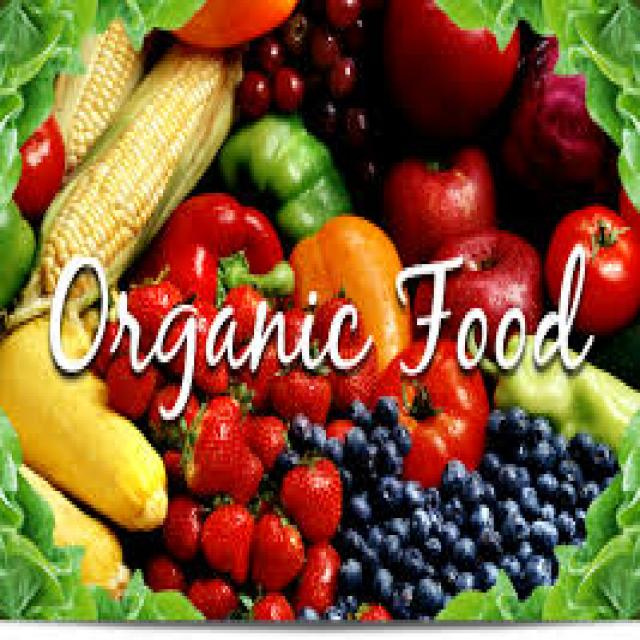organic waste: (2, 40, 235, 328), (0, 0, 206, 312), (432, 406, 638, 620), (0, 402, 201, 616), (432, 0, 638, 207), (0, 311, 165, 528), (496, 34, 618, 223), (139, 190, 290, 338), (362, 0, 515, 146), (465, 318, 638, 447), (288, 210, 410, 376), (214, 105, 352, 251), (374, 335, 484, 488), (14, 457, 125, 593), (379, 142, 496, 271), (415, 220, 537, 339), (48, 10, 139, 166), (542, 196, 638, 332), (180, 393, 254, 498), (12, 105, 65, 220), (280, 444, 340, 542), (166, 294, 226, 392), (124, 278, 180, 366), (250, 504, 304, 586), (199, 498, 247, 582), (268, 362, 331, 423), (326, 335, 374, 410), (106, 349, 160, 410), (235, 339, 278, 413), (295, 532, 335, 610), (91, 311, 137, 376), (314, 291, 357, 359), (158, 494, 202, 559), (223, 284, 268, 342), (148, 383, 192, 440), (278, 298, 314, 366), (245, 413, 288, 467), (187, 572, 235, 616), (139, 552, 185, 593), (226, 447, 262, 498), (247, 579, 292, 616), (163, 444, 189, 491), (412, 569, 441, 609), (432, 515, 461, 552), (497, 457, 528, 491), (438, 450, 468, 484), (285, 410, 312, 447), (491, 491, 518, 528), (374, 440, 403, 474), (347, 488, 374, 524), (450, 532, 474, 572), (527, 433, 554, 468), (549, 504, 575, 538), (475, 558, 501, 592), (350, 599, 386, 623), (338, 556, 362, 592), (474, 522, 498, 558), (525, 409, 549, 444), (554, 453, 578, 488), (465, 498, 489, 532), (522, 552, 549, 582), (374, 474, 400, 505), (451, 535, 477, 566), (398, 542, 419, 579), (554, 474, 575, 511), (369, 562, 391, 596), (571, 430, 592, 464), (343, 423, 364, 457), (578, 474, 599, 508), (388, 579, 410, 610), (402, 474, 420, 511), (383, 512, 408, 538), (592, 440, 611, 474), (307, 423, 326, 457), (408, 504, 427, 538), (443, 491, 462, 525), (479, 450, 498, 484), (568, 504, 587, 538), (518, 484, 537, 518), (379, 532, 400, 562), (465, 464, 482, 501), (534, 467, 554, 498), (501, 546, 518, 582), (322, 433, 341, 464), (357, 542, 374, 576), (321, 596, 343, 620), (484, 406, 501, 437), (393, 416, 410, 447), (357, 410, 379, 433), (343, 396, 364, 420), (340, 525, 358, 552), (338, 464, 352, 498), (434, 548, 451, 576), (376, 393, 396, 416), (513, 535, 532, 559), (535, 494, 556, 515), (422, 477, 436, 508), (276, 447, 297, 467), (446, 569, 467, 589), (549, 427, 566, 450), (369, 420, 388, 440), (338, 589, 352, 610), (295, 603, 316, 616), (503, 403, 522, 416), (482, 481, 494, 501), (511, 420, 525, 437)
